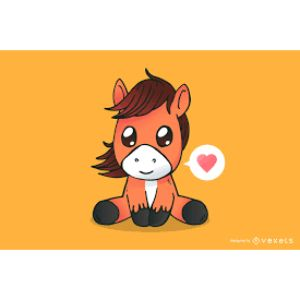horse: (89, 66, 227, 232)
